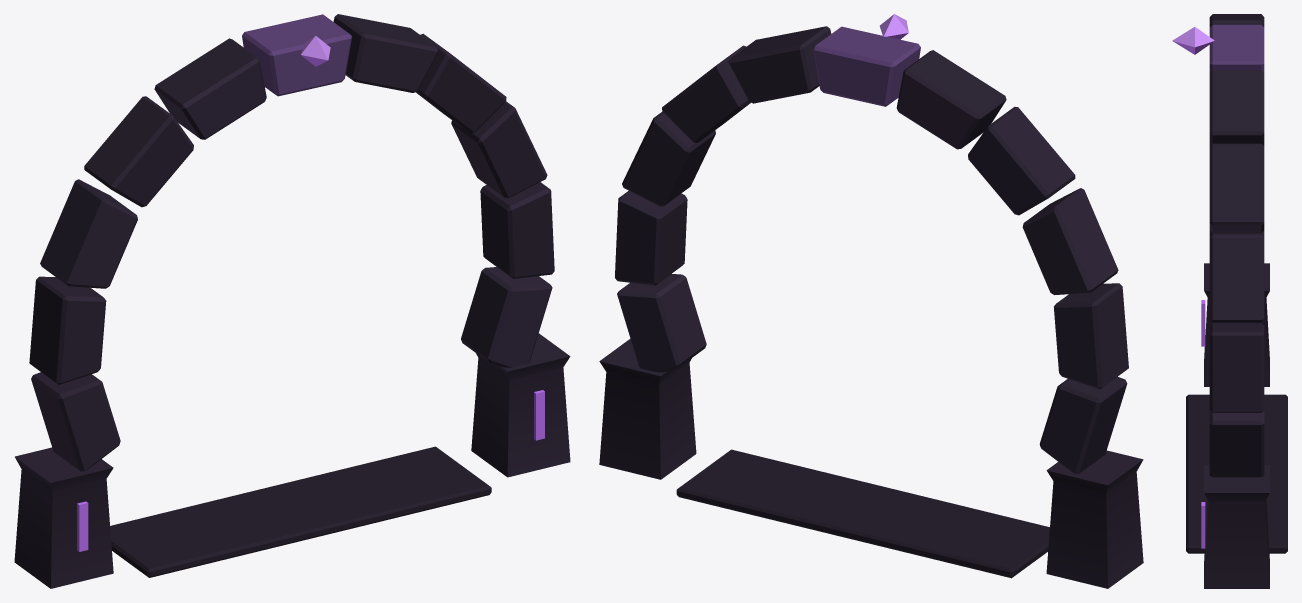
File: portal_frame_dark.glb
3 renders of one model, left to right at view 1: azimuth 30°, elevation 25°; view 2: azimuth 150°, elevation 25°; view 3: azimuth 270°, elevation 25°, orthographic. The views are drawn at different scales.
Parts seen in each view (by area): view 1: portal_frame_dark, portal_frame_dark_glow; view 2: portal_frame_dark; view 3: portal_frame_dark, portal_frame_dark_glow.
Boxes of the visible parts, x1,y1,x2,y2 form: portal_frame_dark: (14, 14, 570, 588); portal_frame_dark_glow: (77, 35, 544, 551); portal_frame_dark: (599, 26, 1143, 588); portal_frame_dark: (1186, 14, 1287, 588); portal_frame_dark_glow: (1172, 27, 1214, 548).
Bounding box in the file's own units: 6.94 × 6.36 × 1.48.
